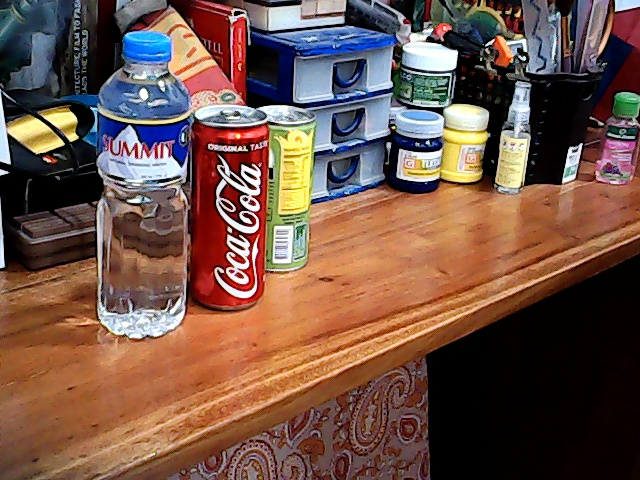Cola: (184, 96, 270, 322)
Pine Juice: (264, 103, 327, 282)
Summit Water: (86, 29, 191, 356)
